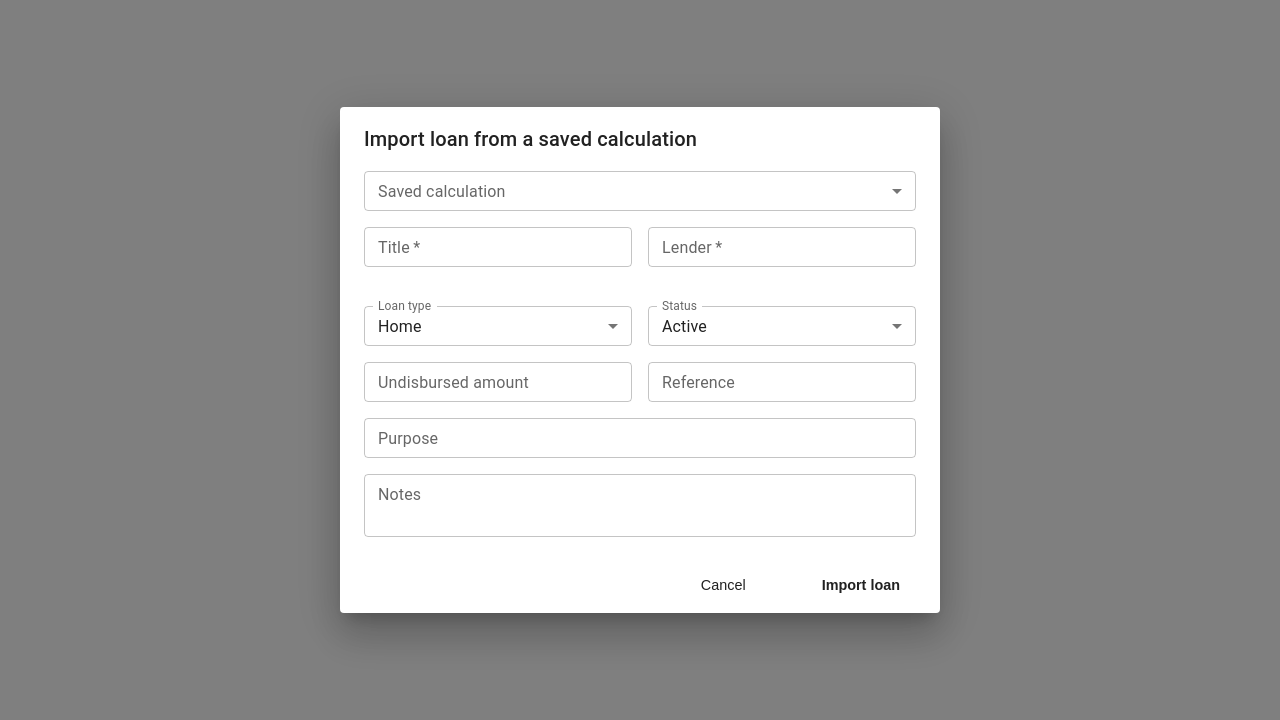
Test: calculations already imported › holds back a scenario a loan was already imported from
Click the dropdown named "Saved calculation" at (640, 190), box [364, 170, 916, 210]
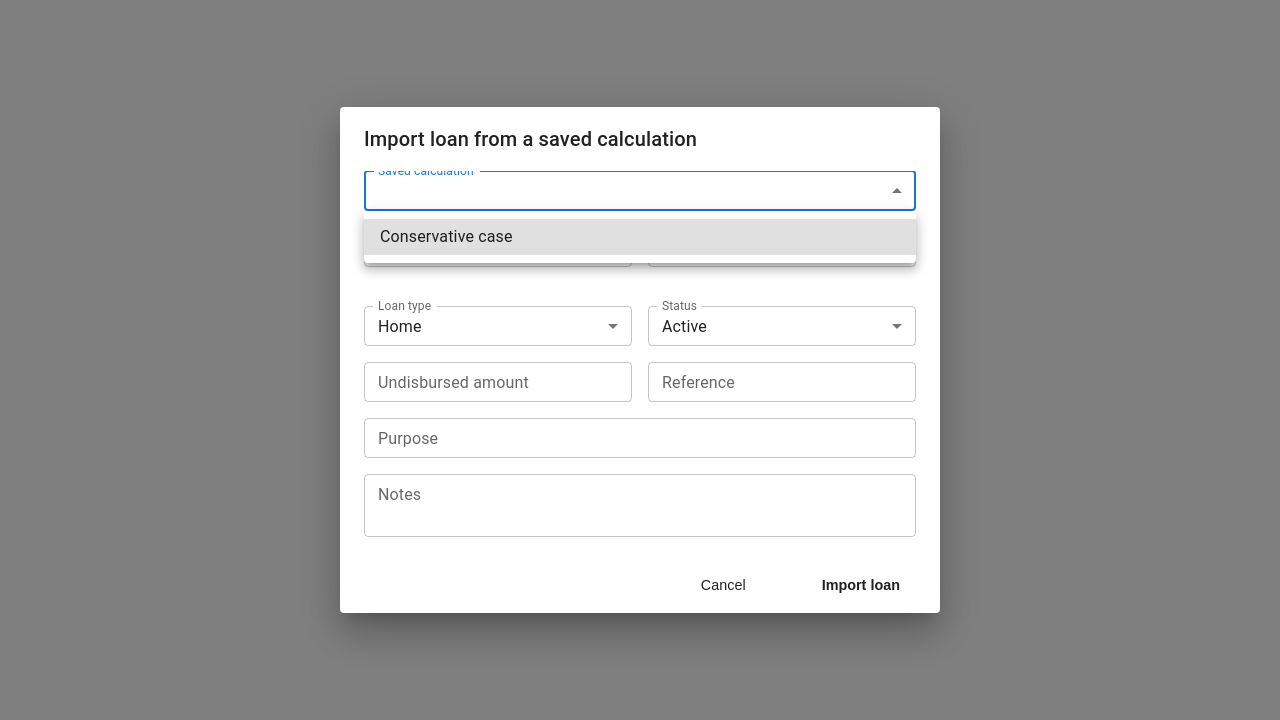
Result: the option "Conservative case" is shown at [364, 219, 916, 255]
